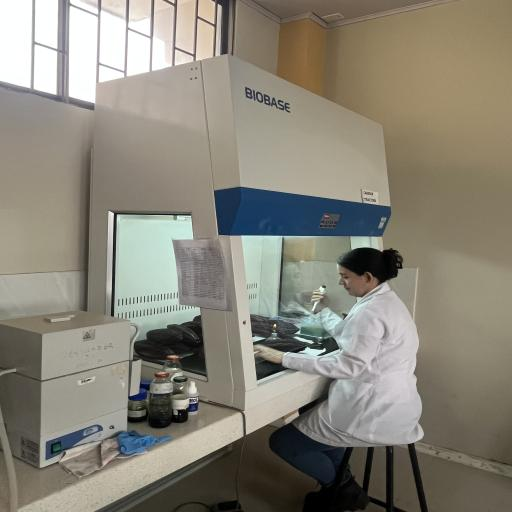Camara_Extractora_Biobase: (70, 53, 406, 420)
